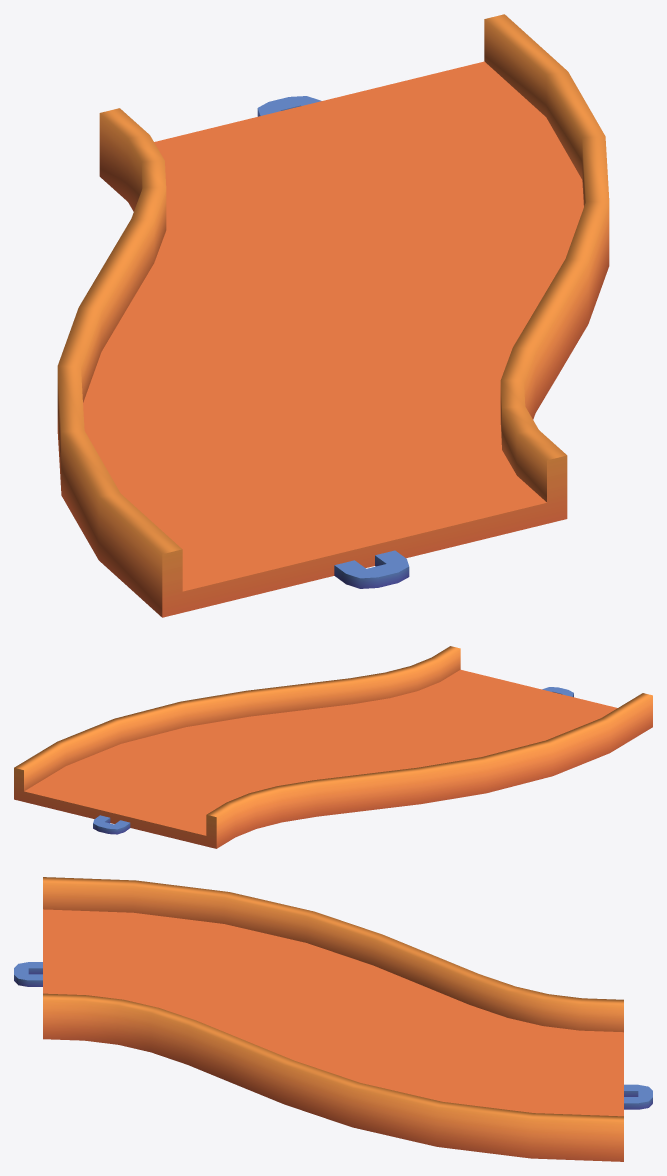
File: kenney-toy-car-track-wide-curve.glb
3 views of the same model, one above another, from view 1: azimuth 30°, elevation 25°; view 2: azimuth 150°, elevation 25°; view 3: azimuth 270°, elevation 25° (orthographic). The views are drawn at different scales.
Visible parts, largest first — view 1: track-wide-curve; view 2: track-wide-curve; view 3: track-wide-curve.
Boxes of the visible parts, box(x1,y1,x2,y2) form: track-wide-curve: box(57, 14, 609, 617); track-wide-curve: box(14, 646, 652, 848); track-wide-curve: box(14, 877, 652, 1161).
Size of the model in its own units: 4 by 0.2997 by 4.4.
1 material, 1 textured.
